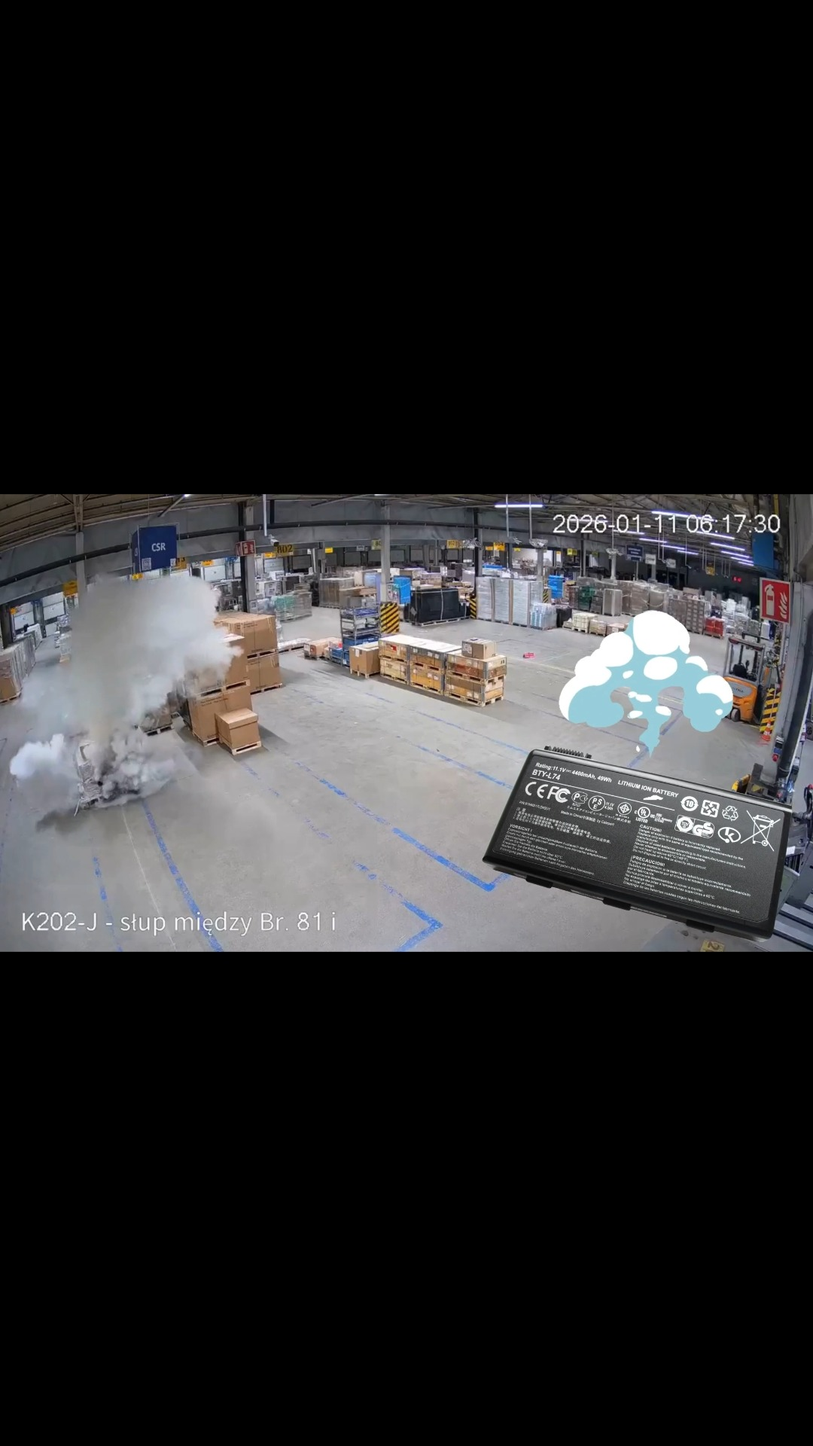smoke: (10, 570, 244, 813)
